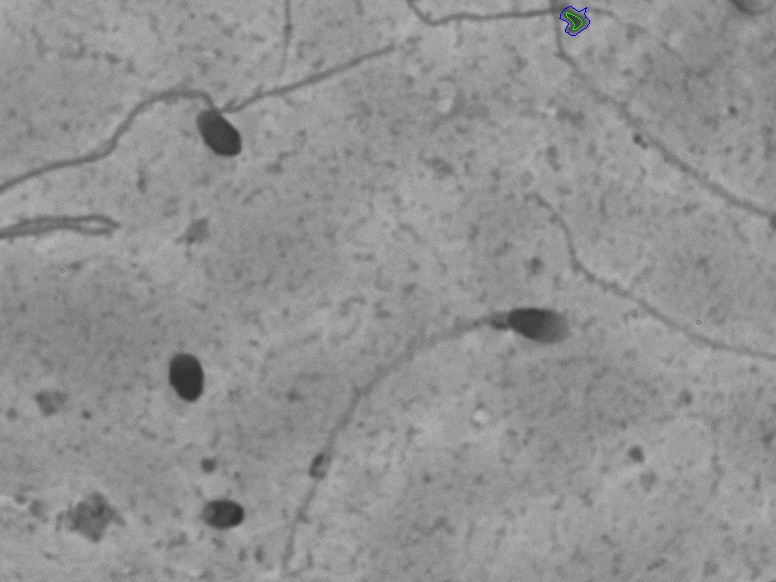Abnormal: (286, 274, 584, 553), (32, 69, 276, 230)
